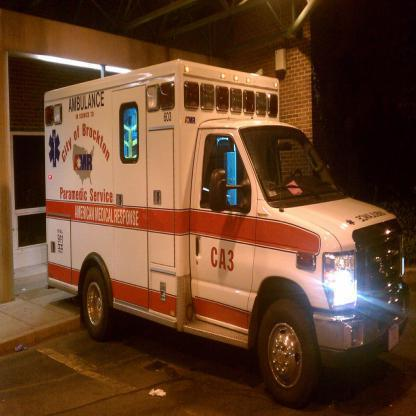Ambulance - v1 Ambulance last generate: (45, 54, 412, 404)
